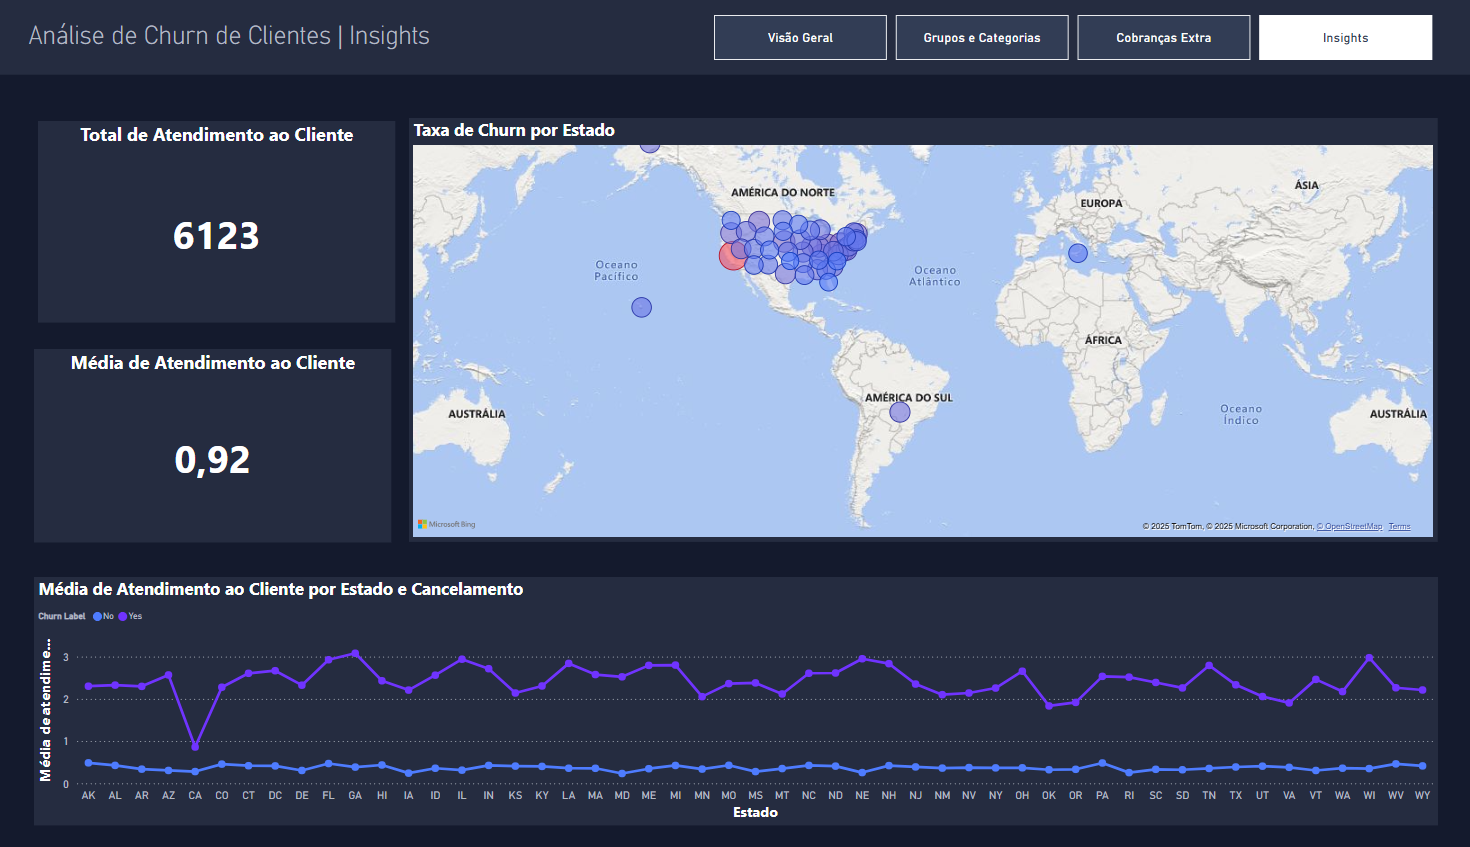

Layout of this report page (visuals, bound fields, positions):
{"tool":"powerbi","page":{"name":"Insights","canvas":[1640,960],"ordinal":3},"visuals":[{"type":"card","title":"Total de Atendimento ao Cliente","fields":{"Values":["Sum(Databel - Data.Customer Service Calls)"]},"box":[44.1,133.4,397.2,223.6],"z":0,"group":"g1"},{"type":"group","id":"g1","title":"Group 1","box":[39.9,130.6,1560.1,786.7],"z":0},{"type":"shape","box":[0,0,1640.2,83.1],"z":1000},{"type":"card","title":"Média de Atendimento ao Cliente","fields":{"Values":["_Measures.Avg Customer Service Calls"]},"box":[40.3,386.8,397.2,215],"z":1000,"group":"g1"},{"type":"textbox","box":[29.2,16.7,525,56.9],"z":2000},{"type":"lineChart","title":"Média de Atendimento ao Cliente por Estado e Cancelamento","fields":{"Y":["_Measures.Avg Customer Service Calls"],"Category":["Databel - Data.State"],"Series":["Databel - Data.Churn Label"]},"box":[39.9,640.9,1559.7,276.4],"z":2000,"group":"g1"},{"type":"map","title":"Taxa de Churn por Estado","fields":{"Category":["Databel - Data.State"],"Size":["_Measures.Churn Rate"]},"box":[457,130.6,1143.1,470.8],"z":3000,"group":"g1"},{"type":"pageNavigator","box":[795.8,16.7,800,50],"z":3000}]}

Visuals, with their boxes in screenshot pixels (x1, y1, x2, y2), scaled from the page's 1640x960 canvas onto the 1470x847 screenshot:
"Total de Atendimento ao Cliente" card: region(40, 118, 396, 315)
"Group 1" group: region(36, 115, 1434, 809)
shape: region(0, 0, 1469, 73)
"Média de Atendimento ao Cliente" card: region(36, 341, 392, 531)
textbox: region(26, 15, 497, 65)
"Média de Atendimento ao Cliente por Estado e Cancelamento" lineChart: region(36, 565, 1434, 809)
"Taxa de Churn por Estado" map: region(410, 115, 1434, 531)
pageNavigator: region(713, 15, 1430, 59)
